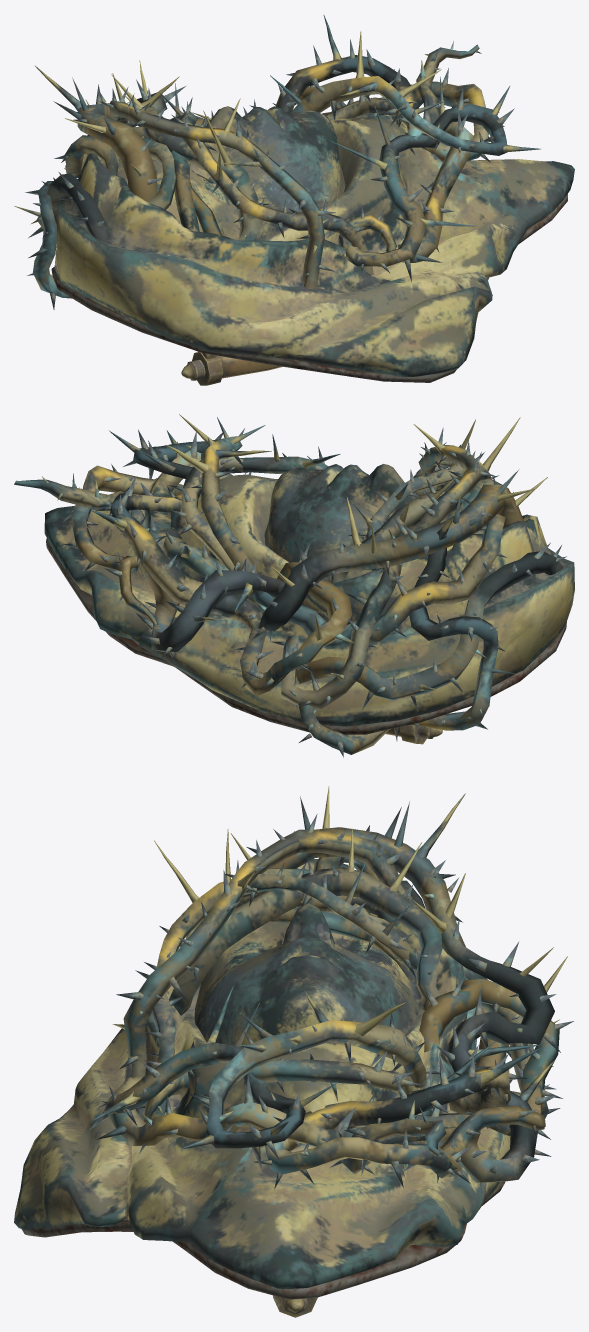
3 views of the same model, one above another, from view 1: azimuth 30°, elevation 25°; view 2: azimuth 150°, elevation 25°; view 3: azimuth 270°, elevation 25° (orthographic). The views are drawn at different scales.
Parts seen in each view (by area): view 1: WP_A_2024; view 2: WP_A_2024; view 3: WP_A_2024.
Boxes of the visible parts, <box> form: WP_A_2024: <box>14,14,574,385</box>; WP_A_2024: <box>14,414,574,757</box>; WP_A_2024: <box>14,786,573,1317</box>.
Size of the model in its own units: 45.37 by 26.03 by 35.35.
1 material, 1 textured.
